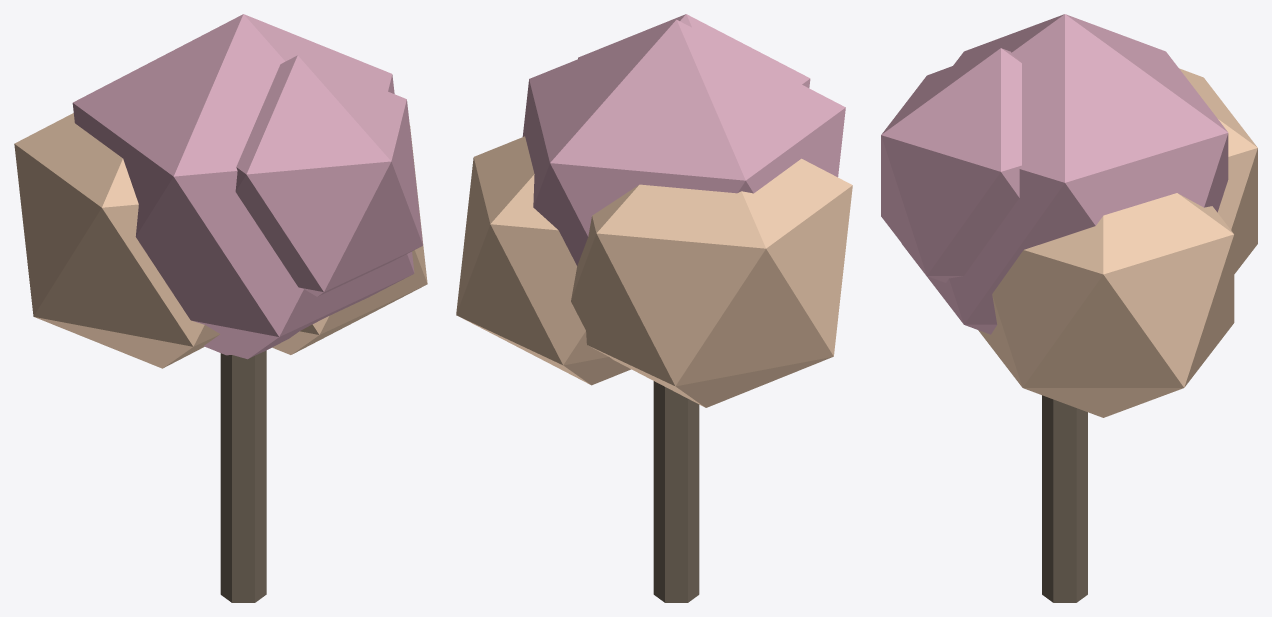
File: lqv_lowpoly_tree_lapacho.glb
3 renders of one model, left to right at view 1: azimuth 30°, elevation 25°; view 2: azimuth 150°, elevation 25°; view 3: azimuth 270°, elevation 25°, orthographic.
Visible parts, largest first — view 1: Lapacho_blob_0.0, Lapacho_blob_0.2, Lapacho_blob_-0.5, Lapacho_trunk, Lapacho_blob_0.6; view 2: Lapacho_blob_-0.5, Lapacho_blob_0.0, Lapacho_blob_0.6, Lapacho_trunk, Lapacho_blob_0.2; view 3: Lapacho_blob_0.0, Lapacho_blob_0.6, Lapacho_blob_0.2, Lapacho_trunk, Lapacho_blob_-0.5.
Boxes of the visible parts, x1,y1,x2,y2 form: Lapacho_blob_0.0: [72, 14, 414, 359]; Lapacho_blob_0.2: [235, 55, 422, 296]; Lapacho_blob_-0.5: [14, 113, 220, 368]; Lapacho_trunk: [220, 350, 266, 602]; Lapacho_blob_0.6: [272, 124, 427, 354]; Lapacho_blob_-0.5: [571, 158, 852, 407]; Lapacho_blob_0.0: [522, 19, 845, 265]; Lapacho_blob_0.6: [456, 136, 630, 385]; Lapacho_trunk: [653, 381, 699, 602]; Lapacho_blob_0.2: [578, 14, 810, 87]; Lapacho_blob_0.0: [901, 14, 1228, 334]; Lapacho_blob_0.6: [978, 193, 1234, 417]; Lapacho_blob_0.2: [881, 48, 1021, 282]; Lapacho_trunk: [1042, 395, 1087, 602]; Lapacho_blob_-0.5: [1179, 68, 1257, 273].
Size of the model in its own units: 3.34 by 5 by 2.94.
